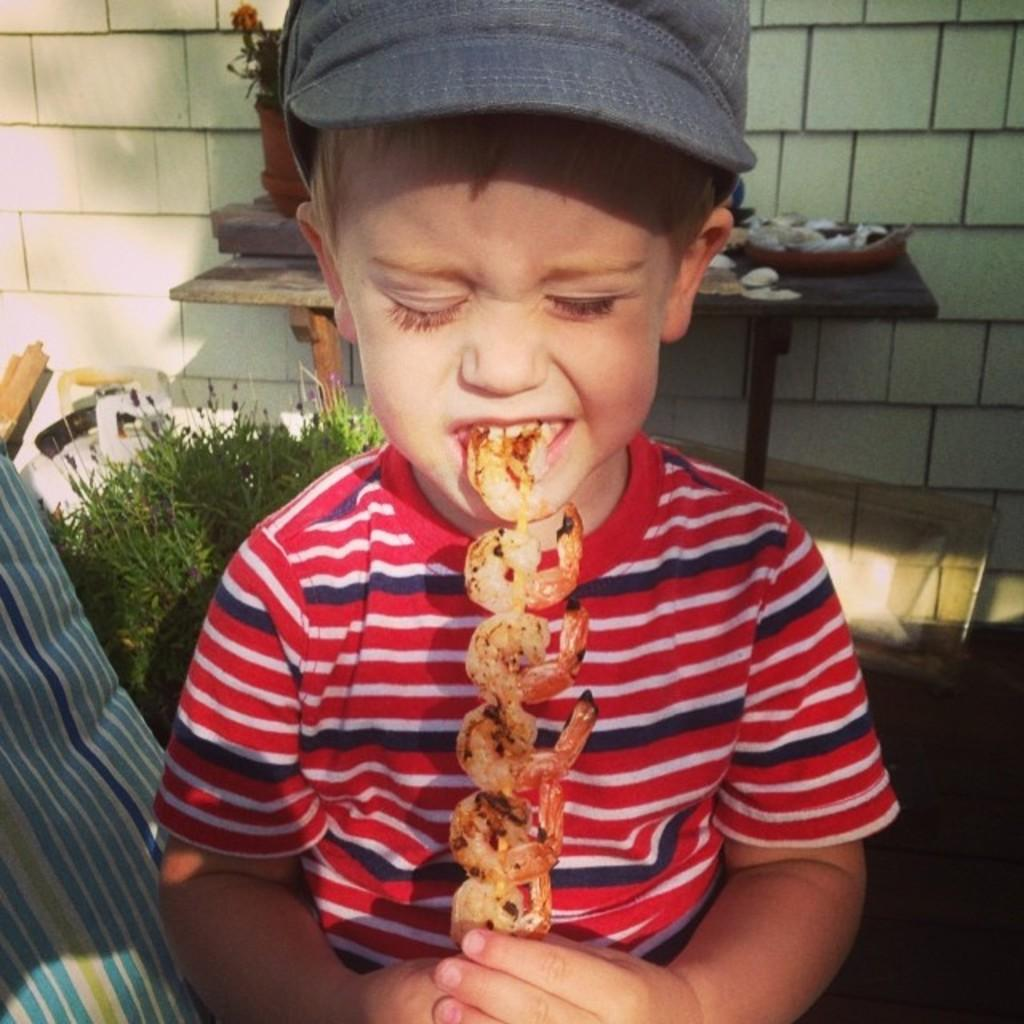Hat: (278, 0, 761, 214)
